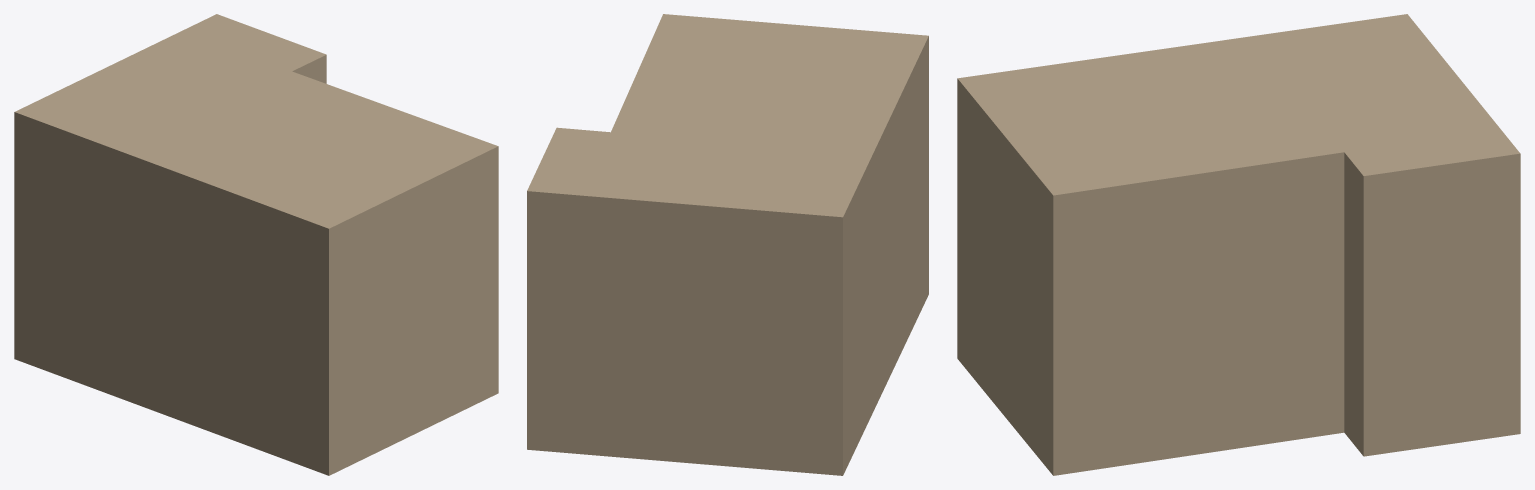
The model's file is bld_100469589.dae.
3 views of the same model, side by side, from view 1: azimuth 30°, elevation 25°; view 2: azimuth 150°, elevation 25°; view 3: azimuth 270°, elevation 25° (orthographic). The views are drawn at different scales.
Visible parts, largest first — view 1: bld_100469589; view 2: bld_100469589; view 3: bld_100469589.
Part boxes in pixels (x1=…): bld_100469589: x1=14, y1=14, x2=498, y2=475; bld_100469589: x1=527, y1=14, x2=928, y2=475; bld_100469589: x1=957, y1=14, x2=1520, y2=475.
Bounding box in the file's own units: 11.11 × 14.56 × 8.
